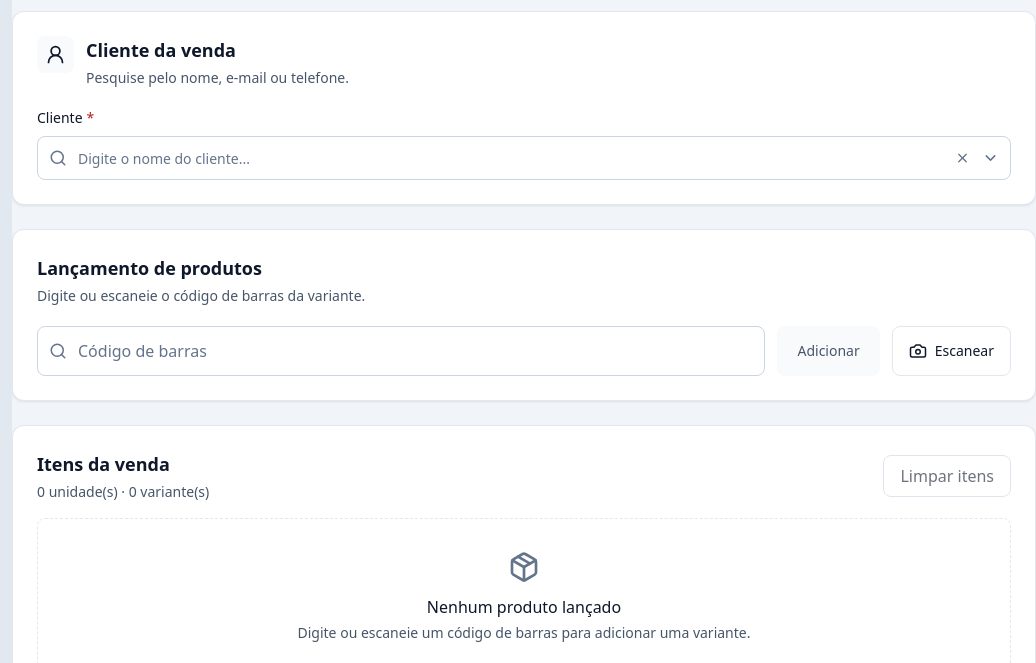
Test case: SaleCreatePage › carrinho mostra preço da variante e total real
In the field named "Código de barras do produto": (401, 351) [37, 326, 766, 376], type "111"
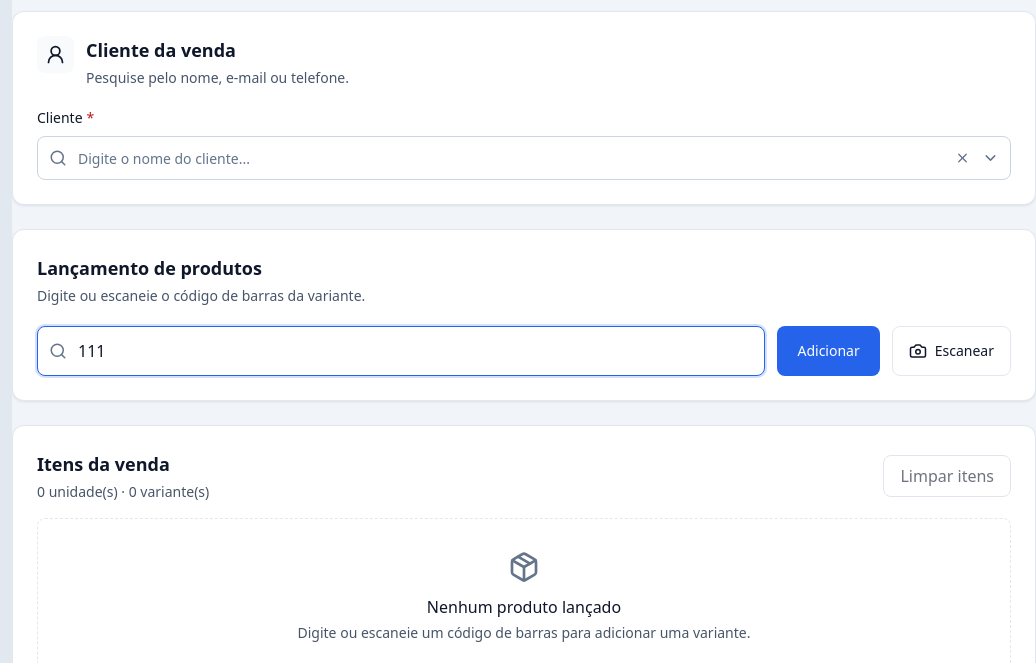
Click the button "Adicionar": (829, 351) [778, 326, 880, 376]
(page scrolled)
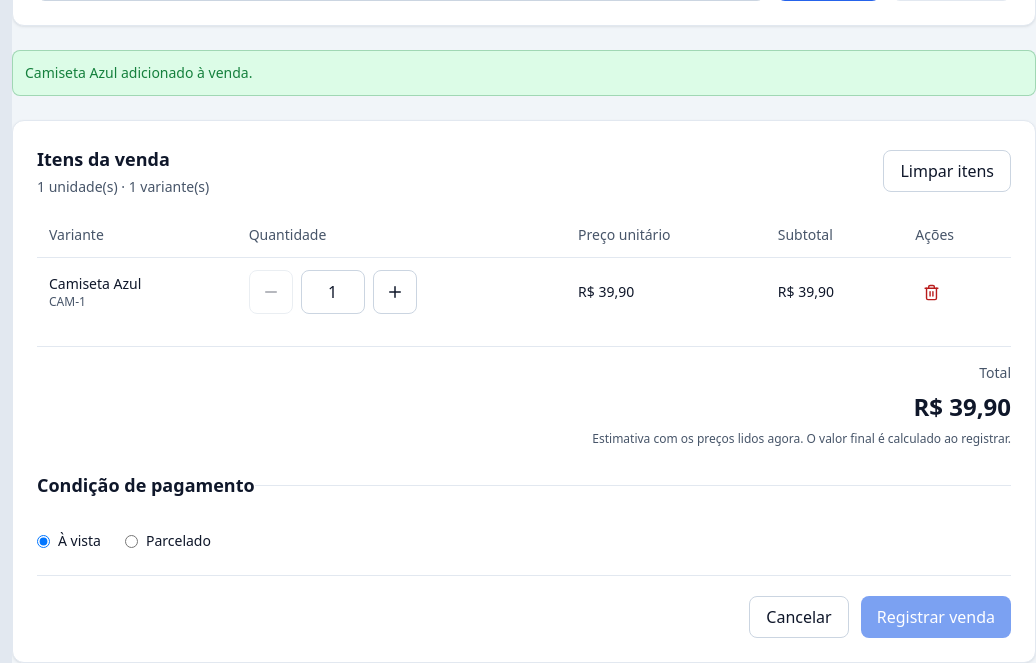
Clear the field named "Quantidade de Camiseta Azul": (333, 292) [301, 270, 365, 314]
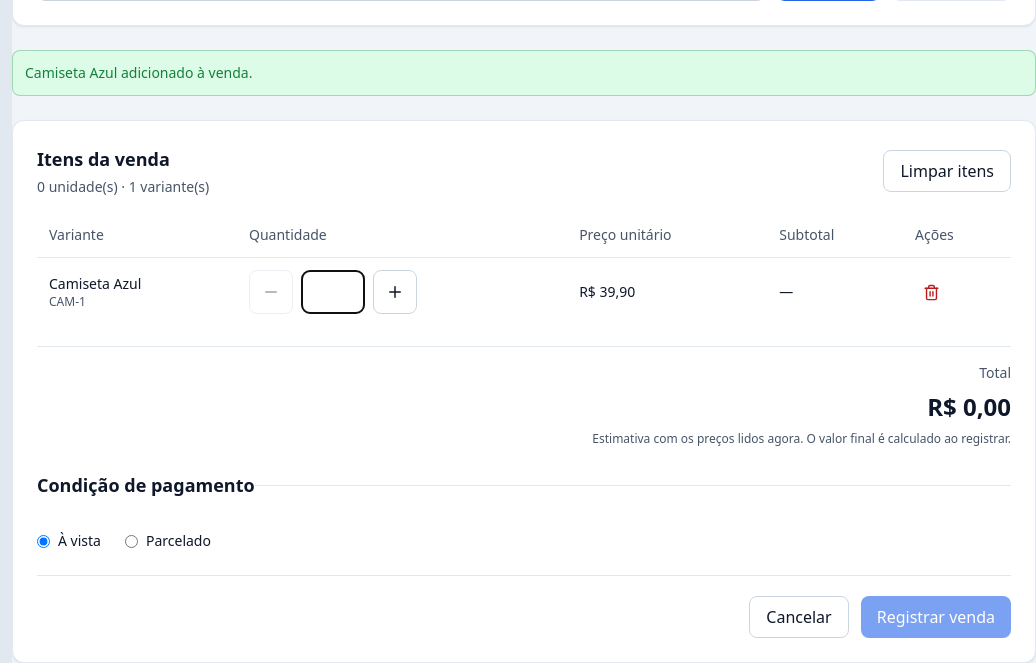
In the field named "Quantidade de Camiseta Azul": (333, 292) [301, 270, 365, 314], type "3"
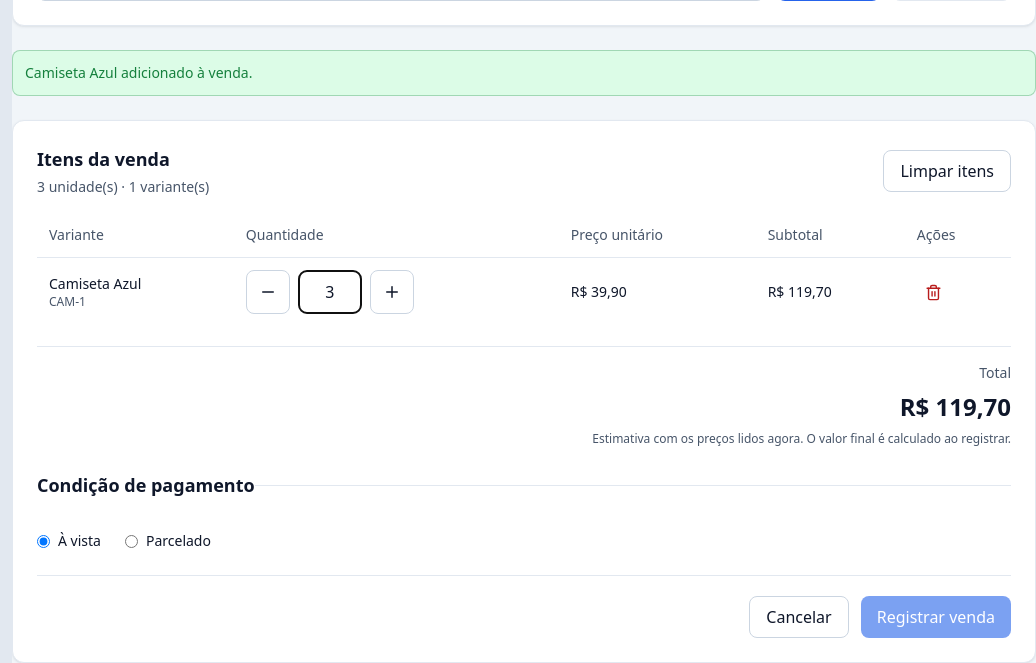
Now the text "R$ 39,90" is shown once, box [559, 258, 756, 326]
Now the text "R$ 119,70" is shown, box [756, 258, 905, 326]
Now the text with test id "sale-total" shows "119,70", box [900, 390, 1011, 423]
